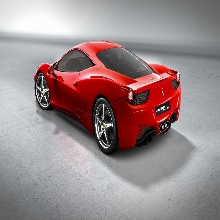no damage: (34, 41, 183, 154)
